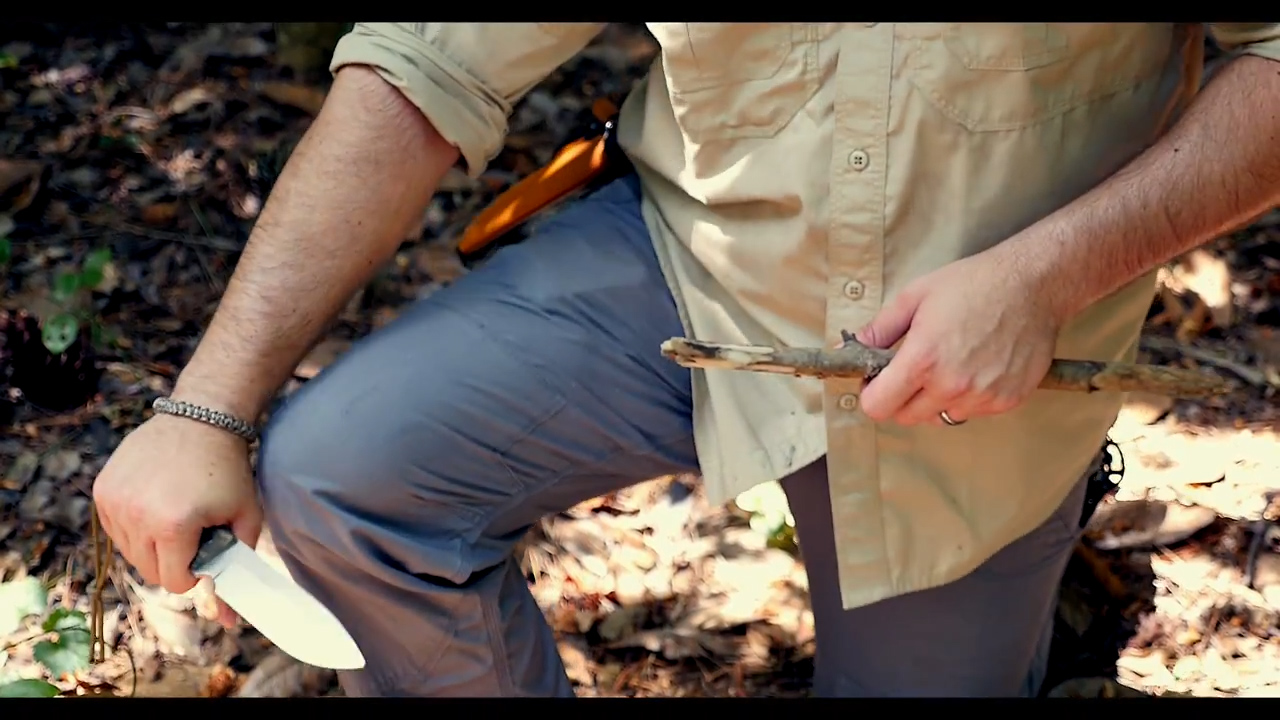knife: (103, 482, 373, 681)
